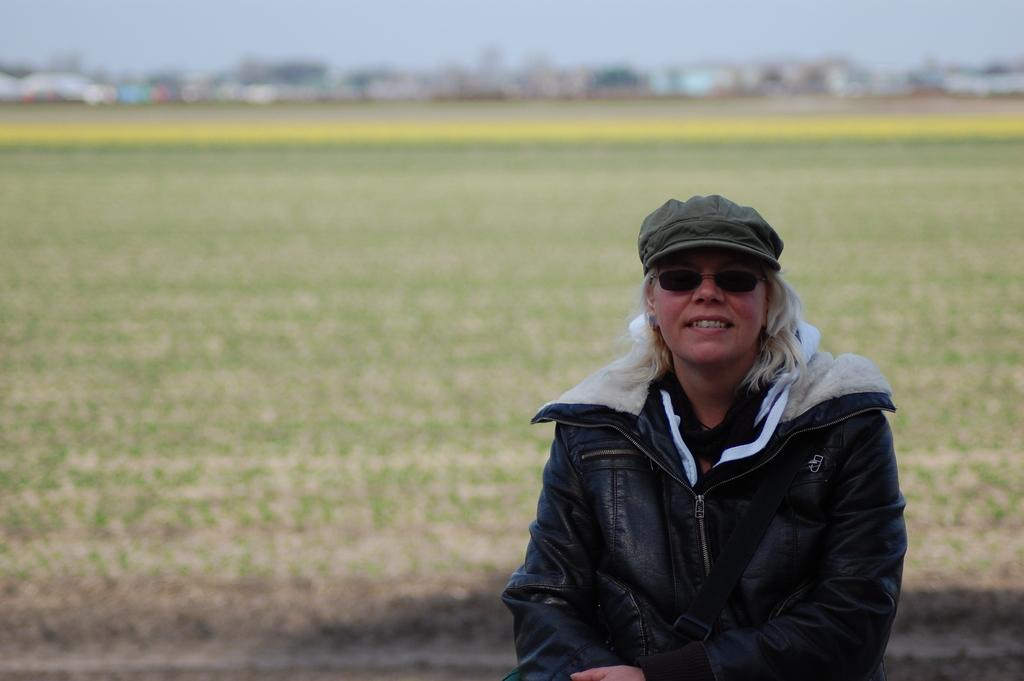Hat: (636, 191, 786, 274)
